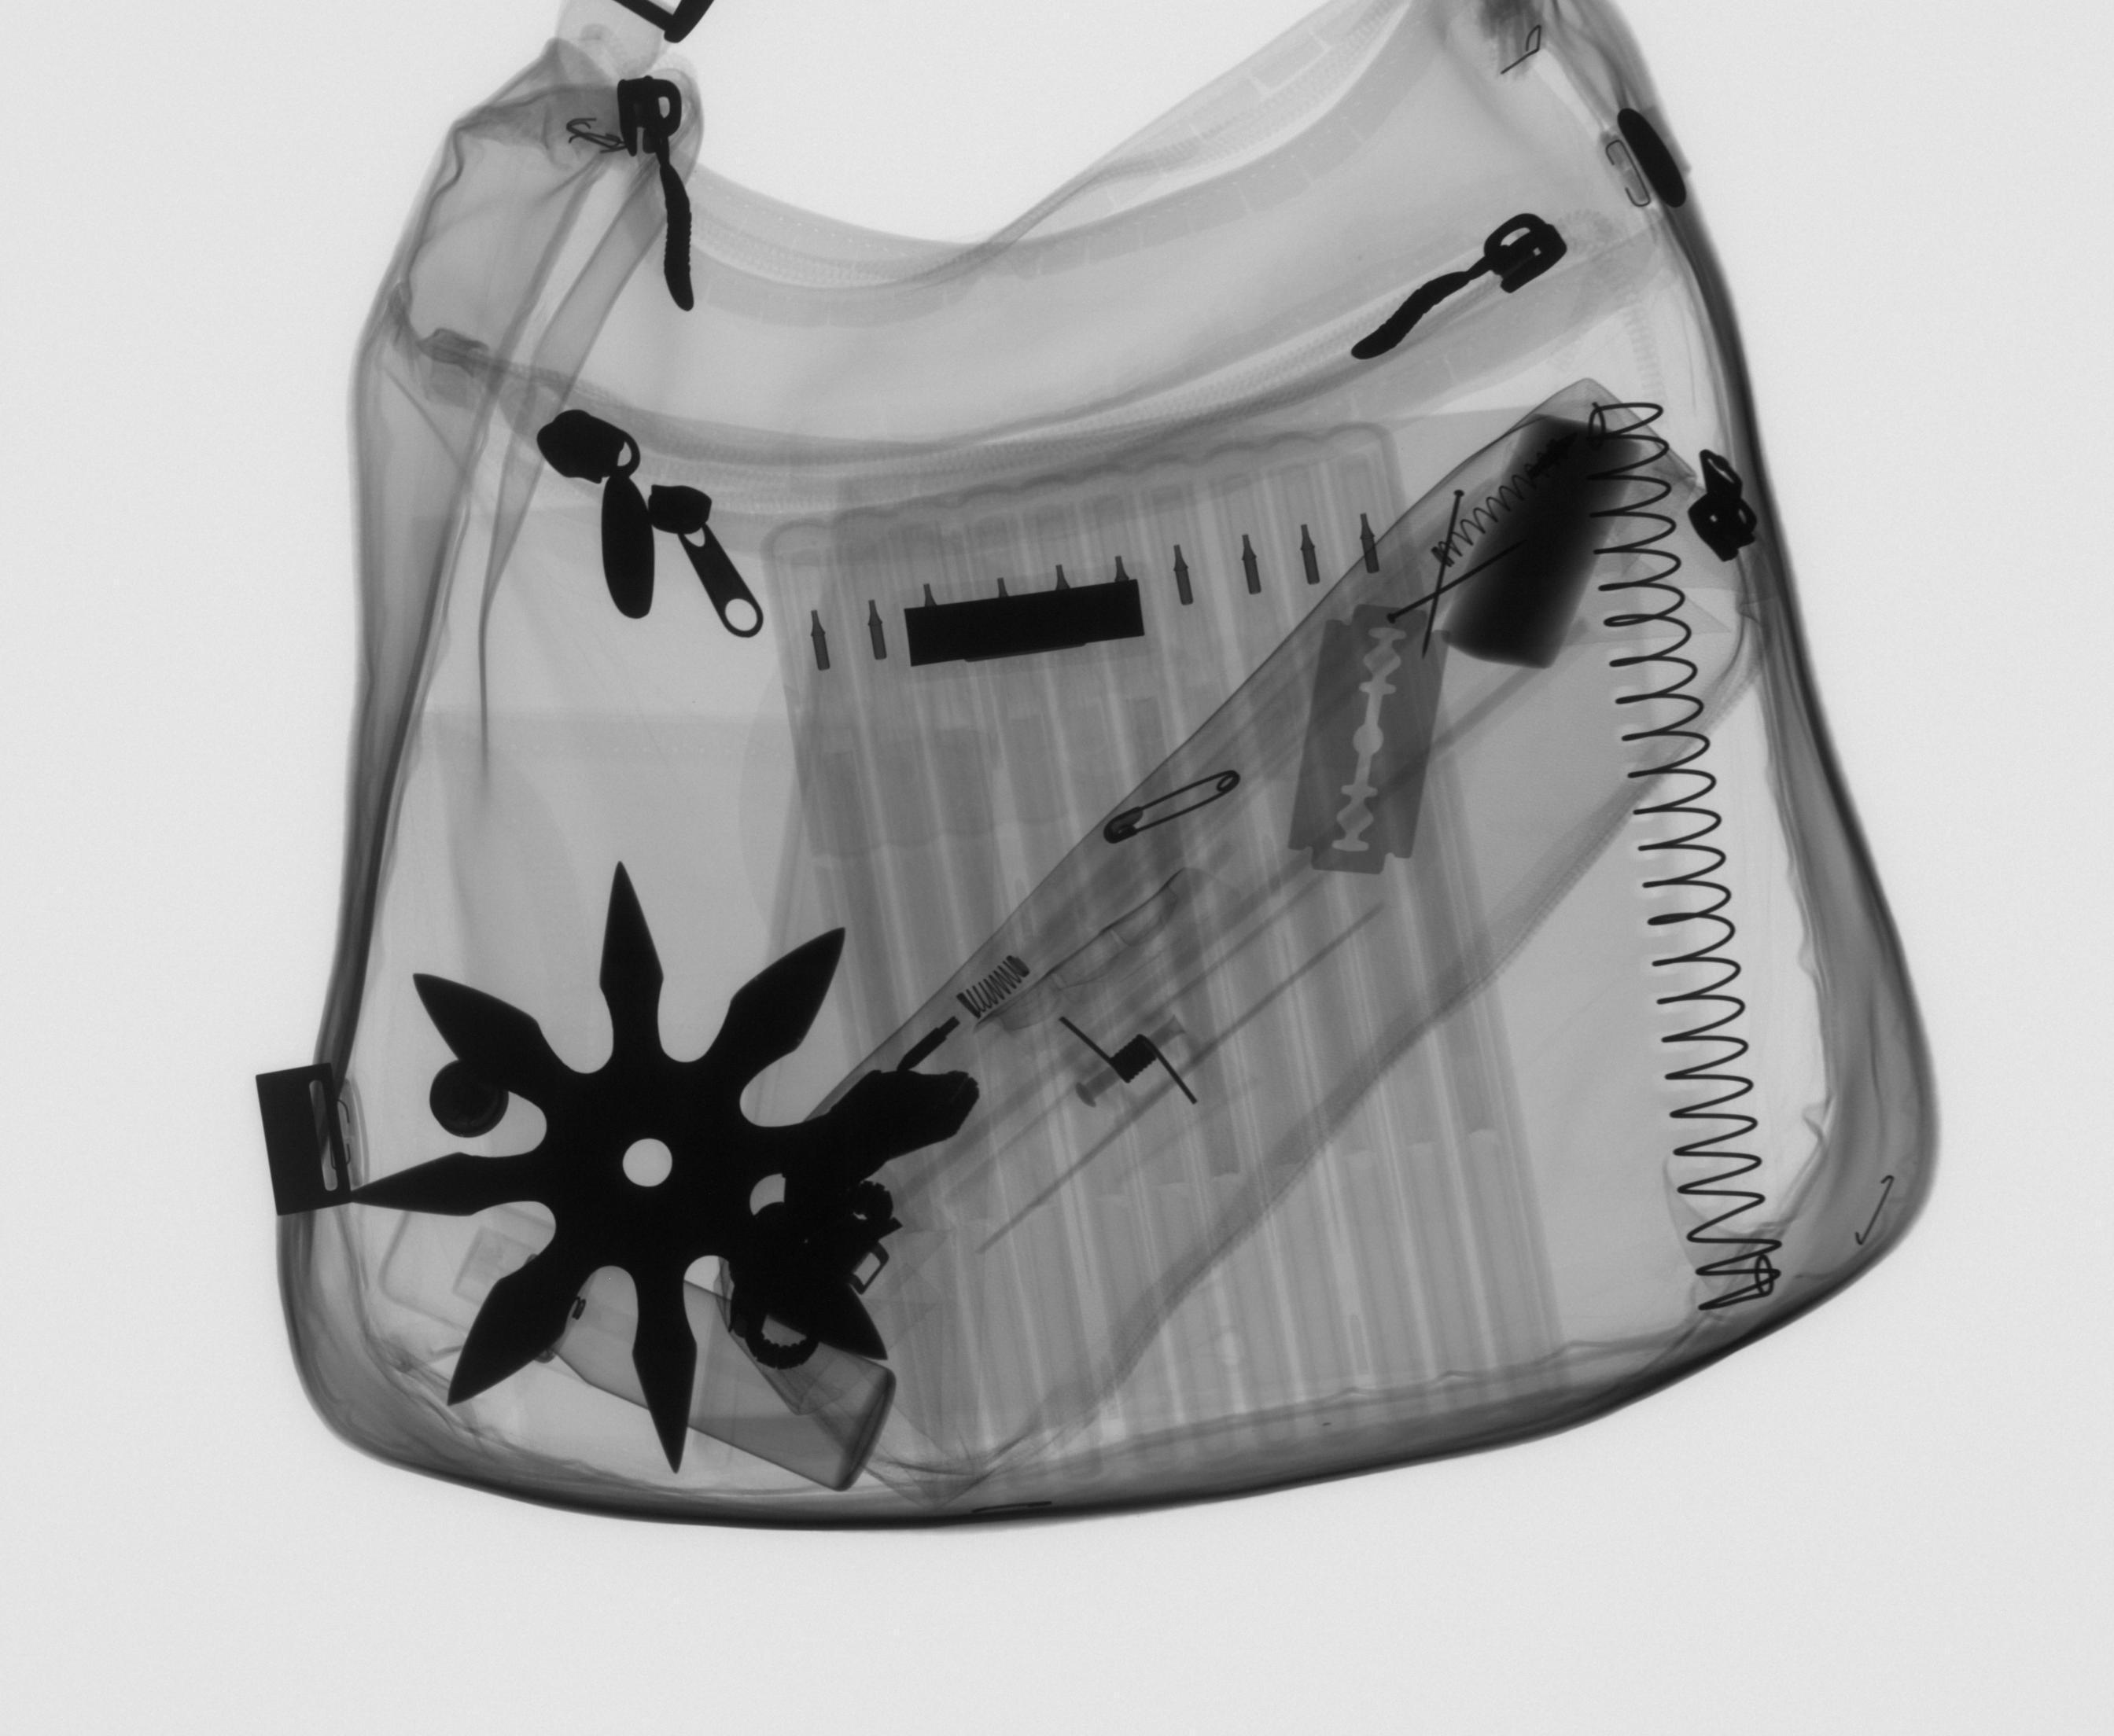RazorBlade: (1276, 595, 1457, 885)
Shuriken: (344, 850, 966, 1487)
